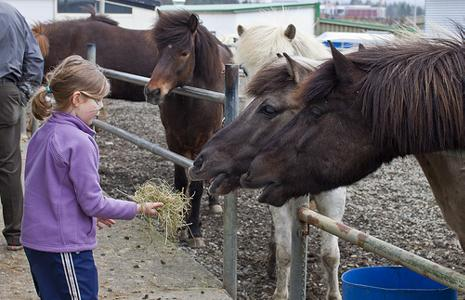person: (20, 56, 162, 300)
